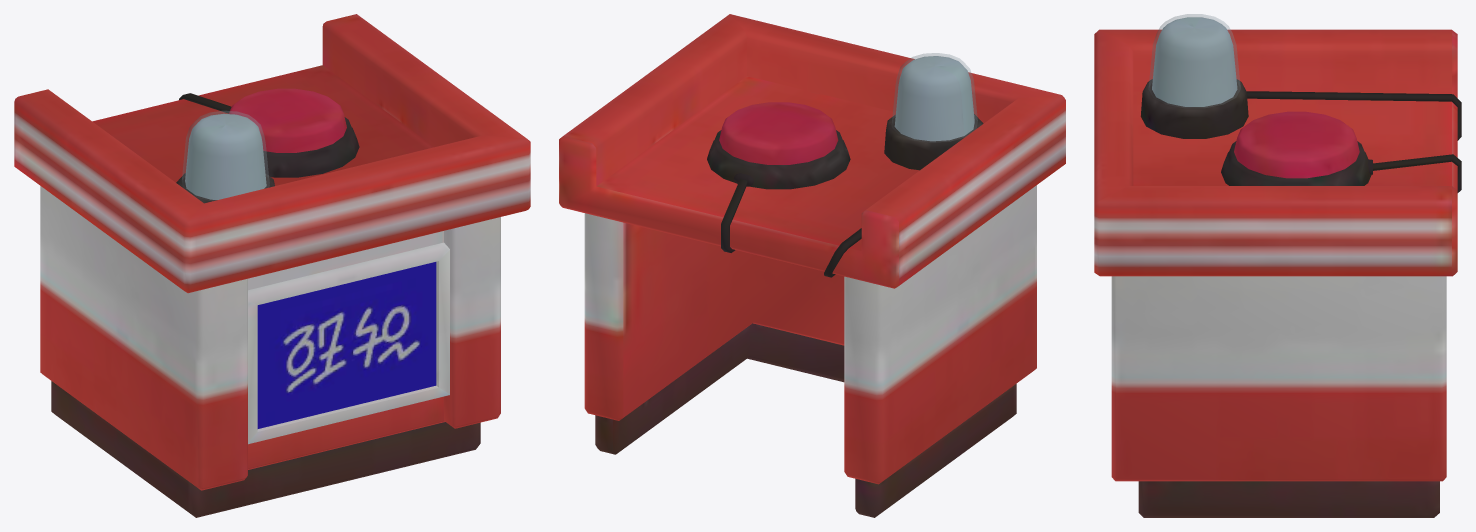
3 views of the same model, side by side, from view 1: azimuth 30°, elevation 25°; view 2: azimuth 150°, elevation 25°; view 3: azimuth 270°, elevation 25° (orthographic). The views are drawn at different scales.
Size of the model in its own units: 9.13 by 9.21 by 8.09.
Materials: 4 (4 with a texture image).
